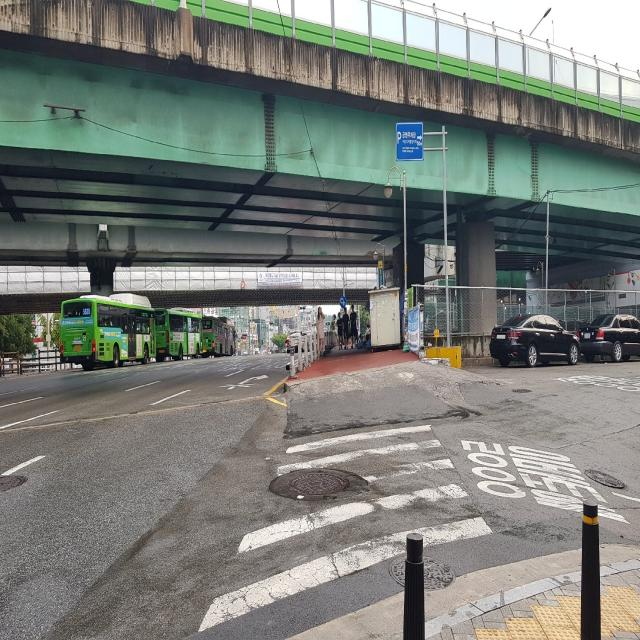횡단보도: (196, 421, 495, 637)
